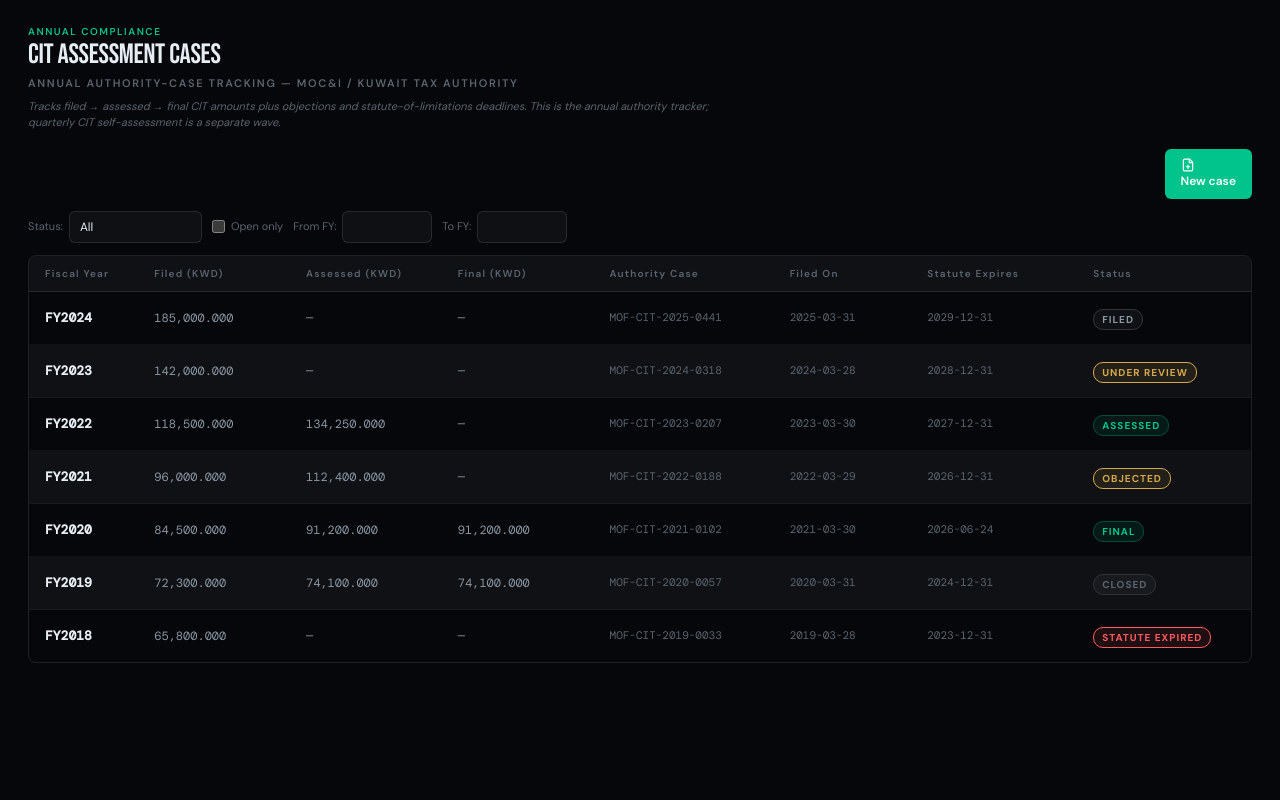
it: CITAssessmentScreen — per-case detail › CLOSED terminal: no action buttons, shows terminal explanation
The image size is (1280, 800).
Click the button with aria-label "Open case": x=640, y=583 left=29, top=556, right=1251, bottom=610
(page scrolled)
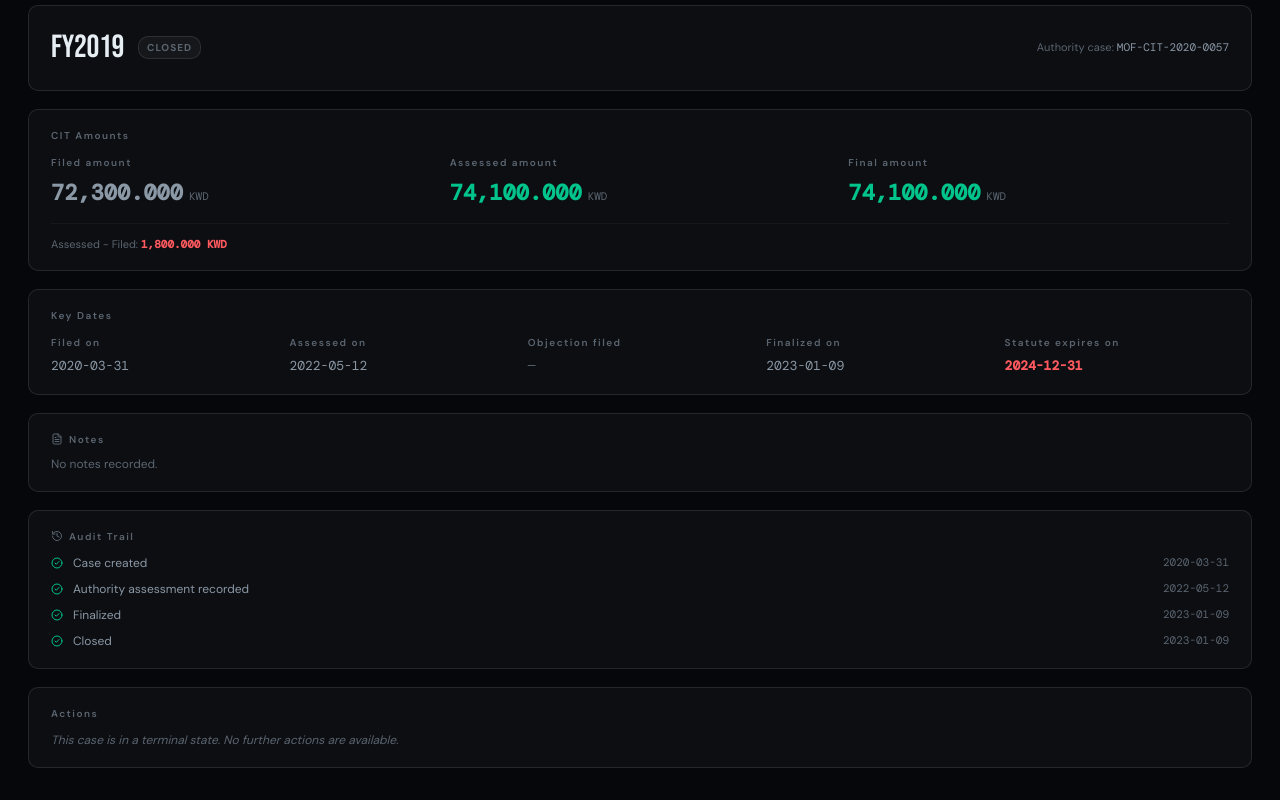
Check: the element with test id "cit-detail-view" is shown
Check: the text "This case is in a terminal state. No further actions are available." is shown, box left=51, top=732, right=398, bottom=748
